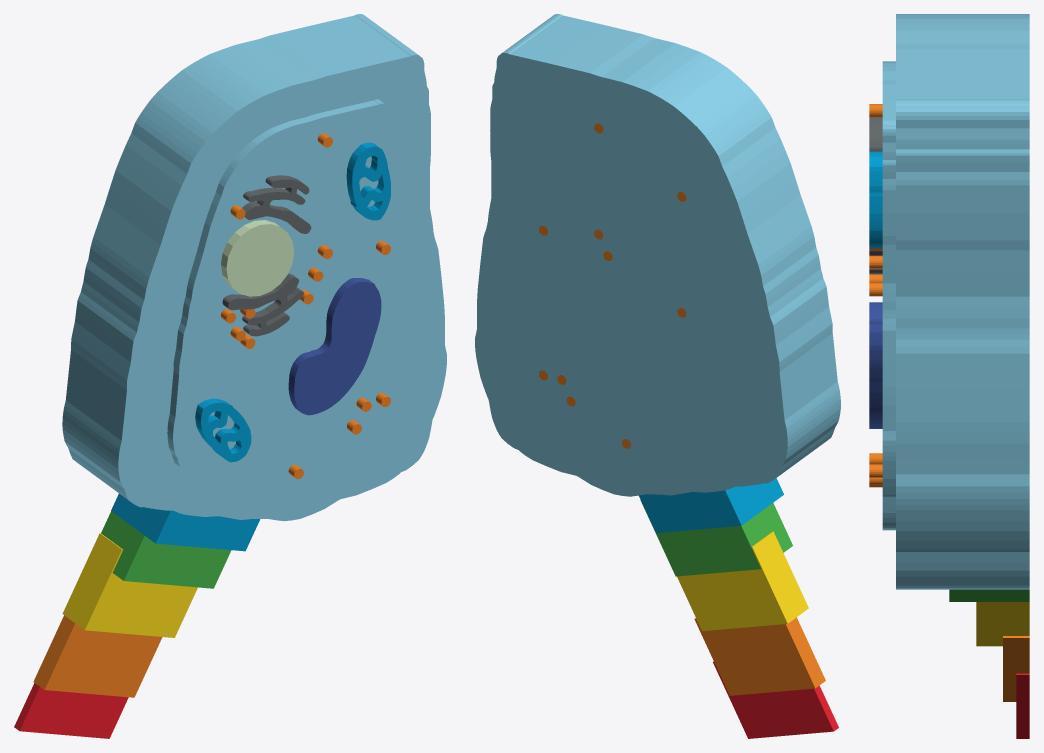
The model's file is tinker.obj.
The picture shows the model from 3 angles, left to right: view 1: azimuth 30°, elevation 25°; view 2: azimuth 150°, elevation 25°; view 3: azimuth 270°, elevation 25°; orthographic projection. The views are drawn at different scales.
Visible parts, largest first — view 1: group_0_8768998, group_0_40919, group_0_16089887, group_0_16768282, group_0_3888547, group_0_4634441, group_0_6383466, group_0_15277357, group_0_13165757; view 2: group_0_8768998, group_0_16089887, group_0_16768282, group_0_4634441, group_0_40919, group_0_15277357; view 3: group_0_8768998, group_0_16089887, group_0_16768282, group_0_3888547, group_0_40919, group_0_4634441, group_0_15277357, group_0_6383466.
Boxes of the visible parts, x1=… form: group_0_8768998: x1=62, y1=14, x2=446, y2=521; group_0_40919: x1=111, y1=142, x2=390, y2=551; group_0_16089887: x1=33, y1=133, x2=390, y2=697; group_0_16768282: x1=62, y1=533, x2=197, y2=637; group_0_3888547: x1=288, y1=278, x2=381, y2=415; group_0_4634441: x1=101, y1=511, x2=231, y2=588; group_0_6383466: x1=222, y1=175, x2=311, y2=336; group_0_15277357: x1=14, y1=683, x2=128, y2=738; group_0_13165757: x1=221, y1=220, x2=294, y2=296; group_0_8768998: x1=475, y1=14, x2=840, y2=496; group_0_16089887: x1=539, y1=123, x2=825, y2=695; group_0_16768282: x1=677, y1=531, x2=808, y2=631; group_0_4634441: x1=640, y1=500, x2=792, y2=576; group_0_40919: x1=639, y1=478, x2=783, y2=532; group_0_15277357: x1=713, y1=661, x2=838, y2=738; group_0_8768998: x1=882, y1=14, x2=1029, y2=589; group_0_16089887: x1=869, y1=104, x2=1029, y2=701; group_0_16768282: x1=976, y1=602, x2=1029, y2=646; group_0_3888547: x1=869, y1=302, x2=882, y2=428; group_0_40919: x1=869, y1=151, x2=882, y2=247; group_0_4634441: x1=949, y1=589, x2=1029, y2=601; group_0_15277357: x1=1016, y1=673, x2=1029, y2=738; group_0_6383466: x1=869, y1=117, x2=882, y2=274.
Bounding box in the file's own units: 38.92 × 65 × 12.
